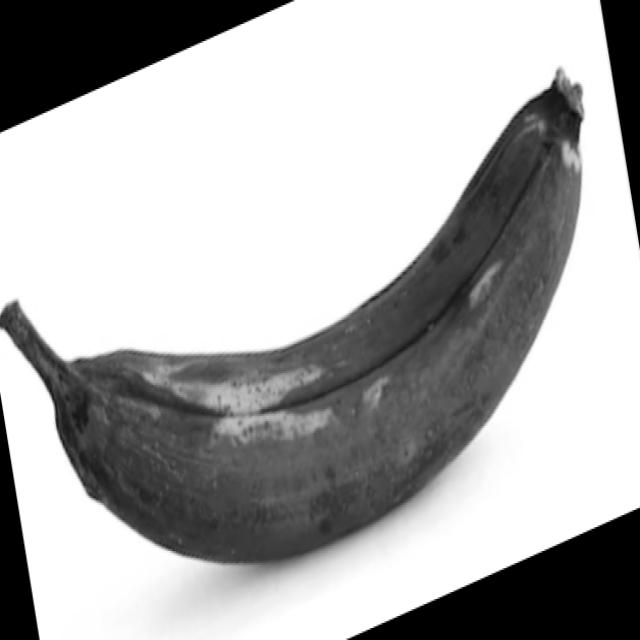Rotten: (0, 43, 598, 590)
